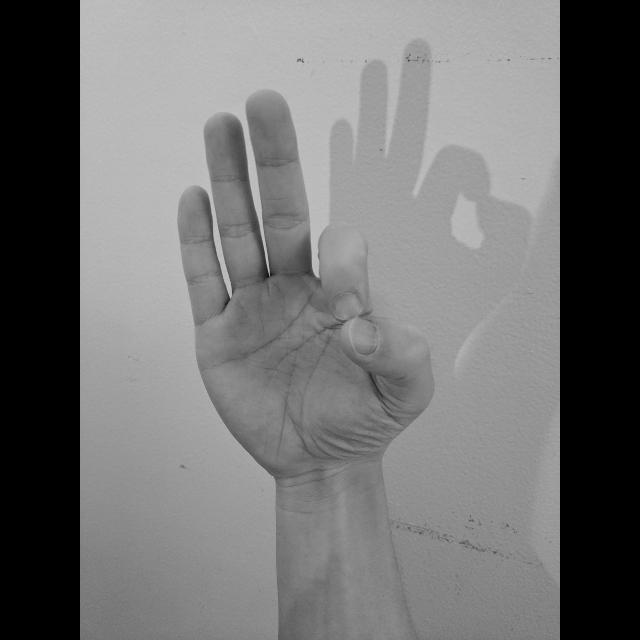F: (172, 87, 440, 486)
